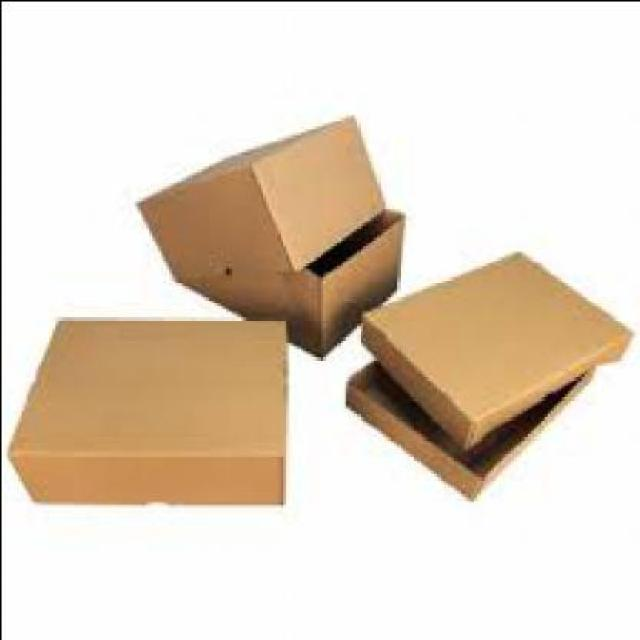CARDBOARD: (360, 247, 632, 447), (12, 313, 293, 504), (139, 110, 387, 282), (348, 356, 597, 496), (182, 205, 404, 352)
